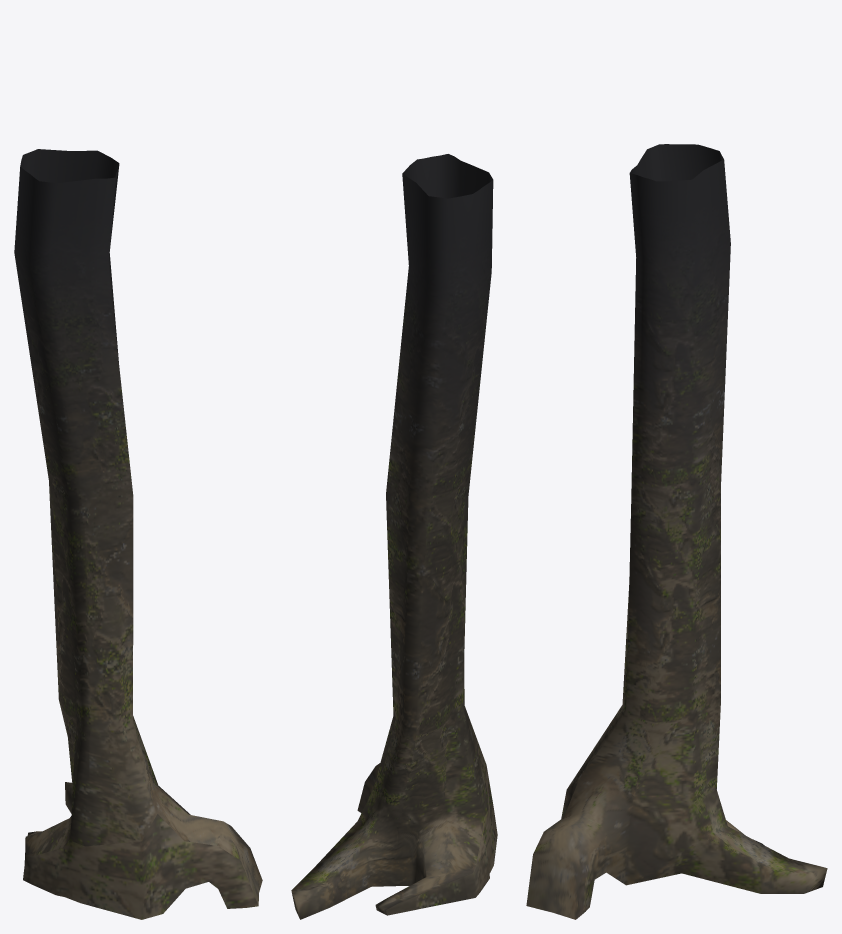
File: Tree1.fbx
The picture shows the model from 3 angles, left to right: view 1: azimuth 30°, elevation 25°; view 2: azimuth 150°, elevation 25°; view 3: azimuth 270°, elevation 25°; orthographic projection. The views are drawn at different scales.
Parts seen in each view (by area): view 1: Tree1; view 2: Tree1; view 3: Tree1.
Part boxes in pixels (x1,y1,x2,y2): Tree1: (14,149,262,919); Tree1: (291,154,497,919); Tree1: (526,144,827,919).
Bounding box in the file's own units: 1.94 × 8.6 × 2.85.
1 material, 1 textured.
